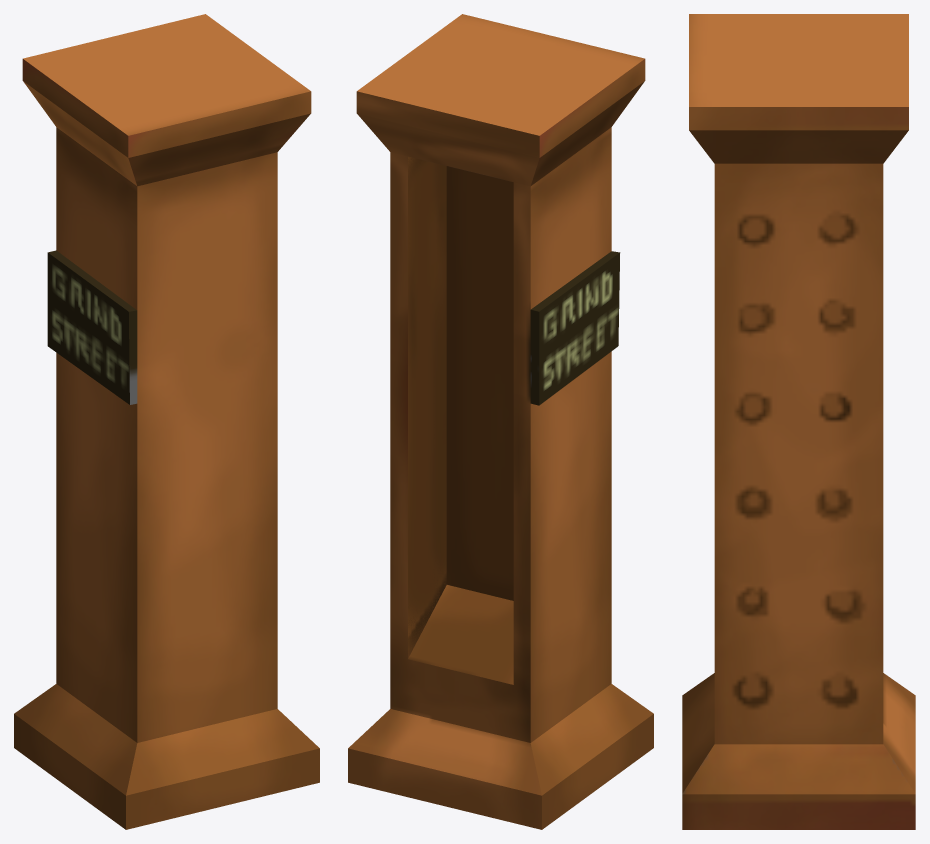
File: subway pillar 2.fbx
3 views of the same model, side by side, from view 1: azimuth 30°, elevation 25°; view 2: azimuth 150°, elevation 25°; view 3: azimuth 270°, elevation 25° (orthographic). The views are drawn at different scales.
Parts seen in each view (by area): view 1: Cube; view 2: Cube; view 3: Cube.
Boxes of the visible parts, x1=… form: Cube: x1=14, y1=14, x2=319, y2=829; Cube: x1=348, y1=14, x2=653, y2=829; Cube: x1=682, y1=14, x2=915, y2=829.
Size of the model in its own units: 276 by 940 by 276.
